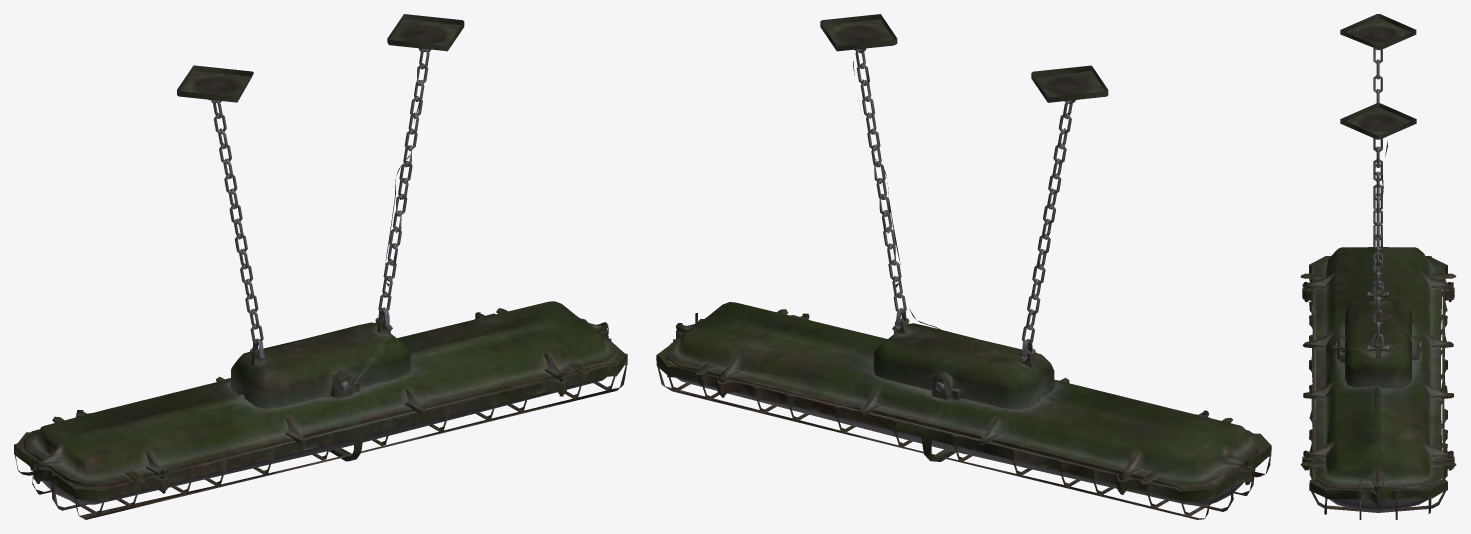
The model's file is caged_hanging_light_lod1.glb.
3 renders of one model, left to right at view 1: azimuth 30°, elevation 25°; view 2: azimuth 150°, elevation 25°; view 3: azimuth 270°, elevation 25°, orthographic. The views are drawn at different scales.
Parts seen in each view (by area): view 1: caged_hanging_light; view 2: caged_hanging_light; view 3: caged_hanging_light.
Boxes of the visible parts, x1,y1,x2,y2 form: caged_hanging_light: (14,14,627,519); caged_hanging_light: (656,14,1271,519); caged_hanging_light: (1300,14,1456,519).
Size of the model in its own units: 1.16 by 0.7501 by 0.3149.
Materials: 1 (1 with a texture image).
